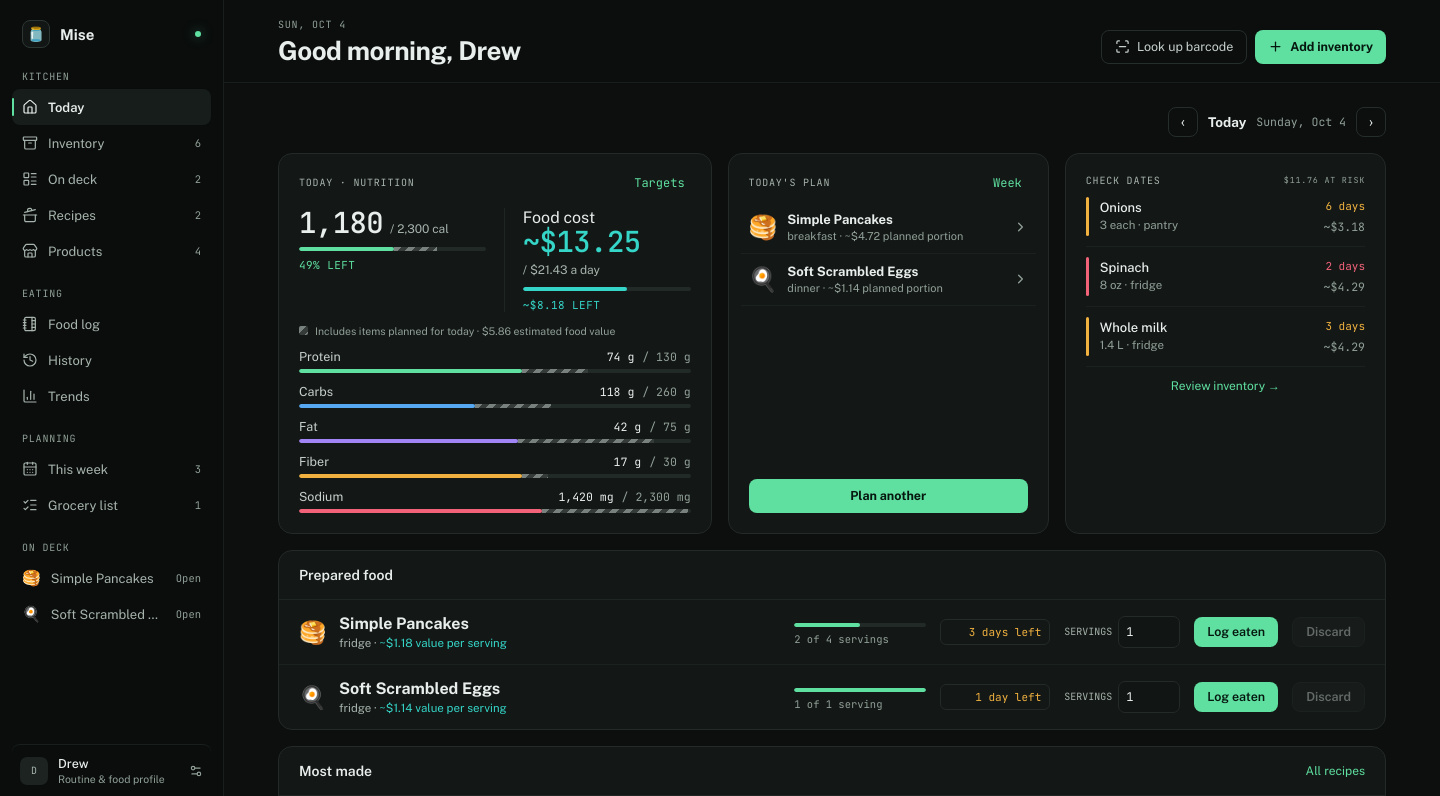
Test: keeps total shortage separate from the retained list quantity
Click the button "Grocery list 1". click: (112, 505)
box: [12,487,211,523]
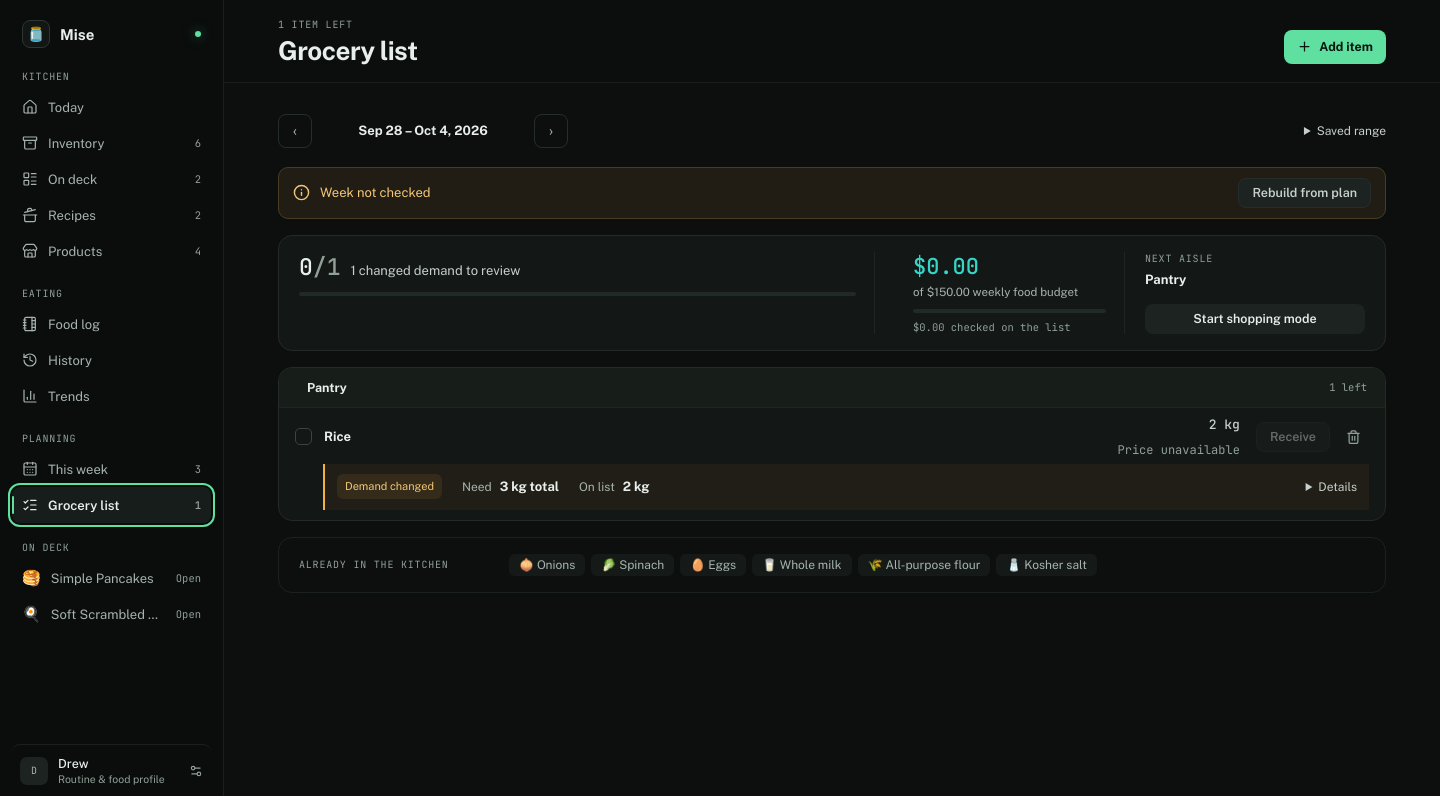
Expected: the element showing "Need 3 kg total" is shown, [462,479,559,494]
Expected: the button "Rebuild from plan" is enabled, [1238,178,1371,208]
